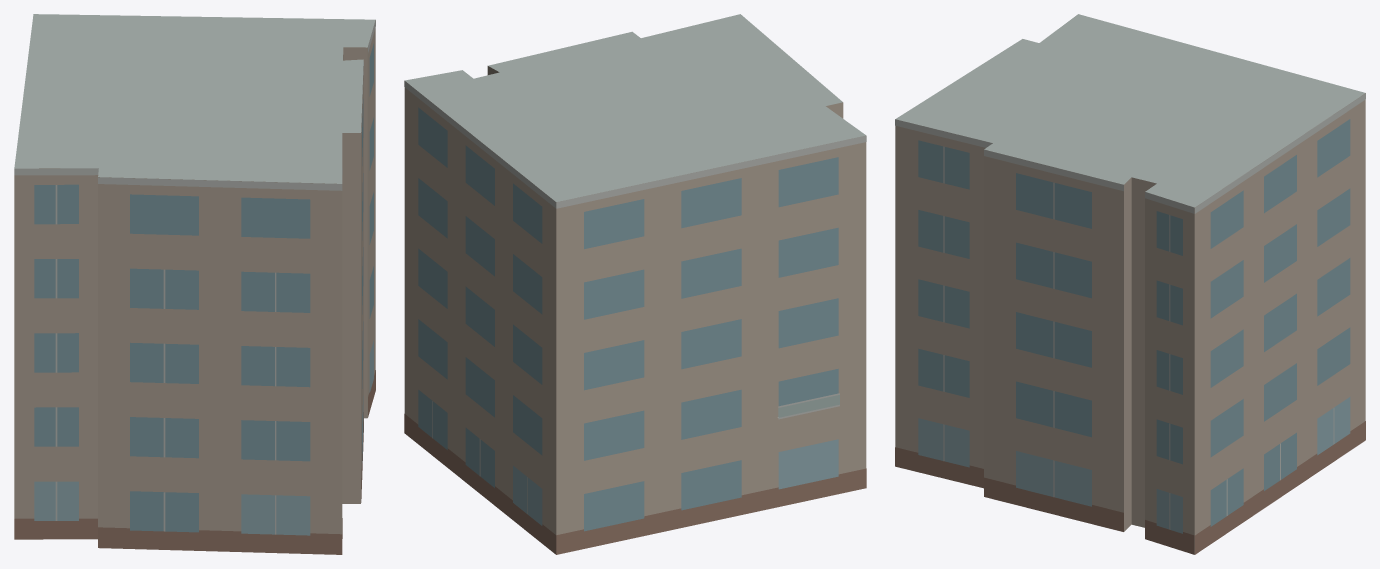
File: survey-upis-32912000.glb
3 renders of one model, left to right at view 1: azimuth 30°, elevation 25°; view 2: azimuth 150°, elevation 25°; view 3: azimuth 270°, elevation 25°, orthographic. The views are drawn at different scales.
Parts seen in each view (by area): view 1: survey-upis-32912000.tmp; view 2: survey-upis-32912000.tmp; view 3: survey-upis-32912000.tmp.
Part boxes in pixels (x1,y1,x2,y2): survey-upis-32912000.tmp: [14, 14, 375, 554]; survey-upis-32912000.tmp: [404, 14, 866, 554]; survey-upis-32912000.tmp: [895, 14, 1365, 554].
Size of the model in its own units: 15.67 by 13.1 by 16.1.
